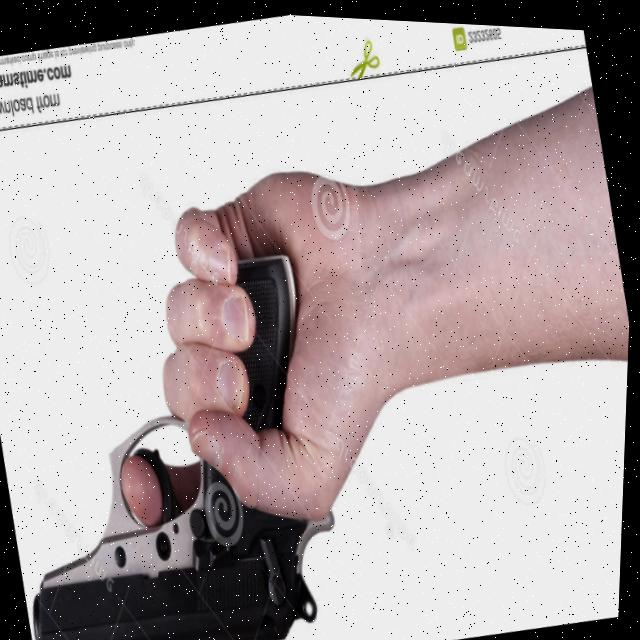pistol: (0, 375, 366, 640)
